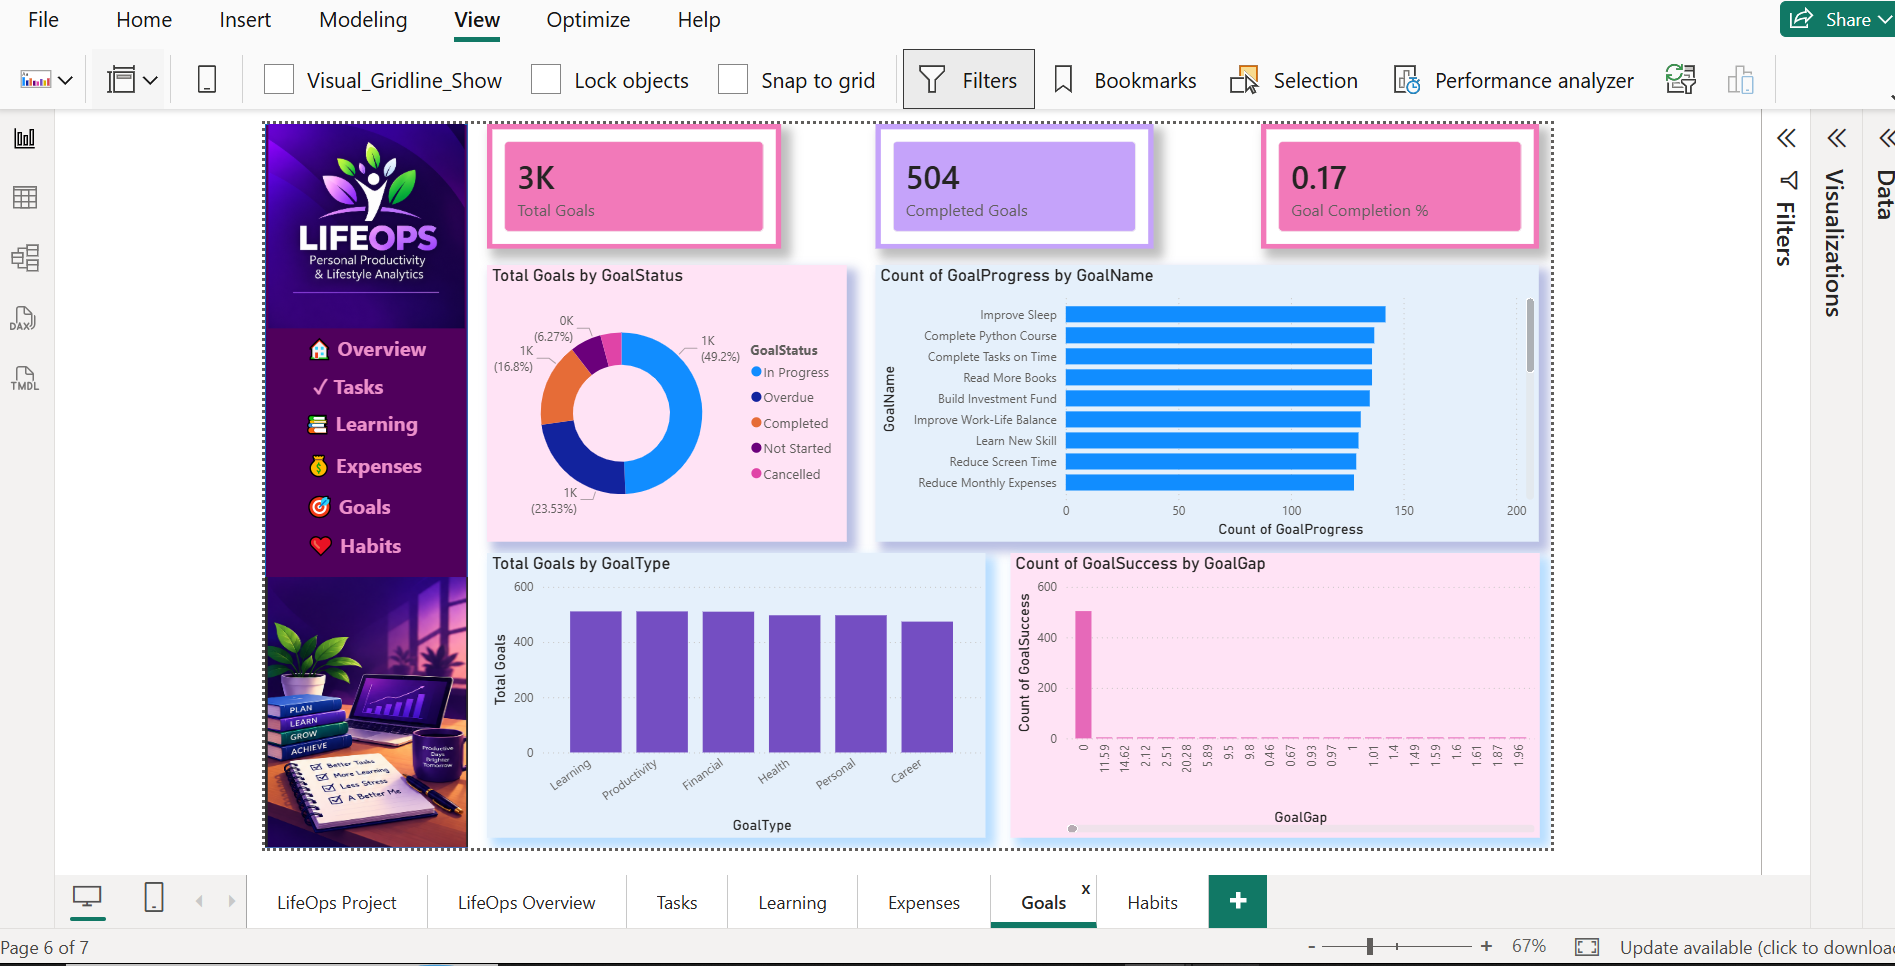

Layout of this report page (visuals, bound fields, positions):
{"tool":"powerbi","page":{"name":"Goals ","canvas":[1280,720],"ordinal":5},"visuals":[{"type":"shape","box":[0,0,201.7,720],"z":0},{"type":"actionButton","box":[19.1,203.6,163.8,39.8],"z":1000},{"type":"actionButton","box":[0,240.2,165.4,39.8],"z":2000},{"type":"actionButton","box":[30.2,278.4,132,39.8],"z":3000},{"type":"actionButton","box":[31.8,319.7,135.2,39.8],"z":4000},{"type":"actionButton","box":[0,359.5,165.4,39.8],"z":5000},{"type":"actionButton","box":[31.8,399.2,114.5,39.8],"z":6000},{"type":"cardVisual","fields":{"Data":["Goals.Total Goals"]},"box":[221.1,0,292.7,124.1],"z":7000},{"type":"cardVisual","fields":{"Data":["Goals.Goal Completion %"]},"box":[991,0,276.8,124.1],"z":8000},{"type":"cardVisual","fields":{"Data":["Goals.Completed Goals"]},"box":[607.6,0,276.8,124.1],"z":9000},{"type":"donutChart","fields":{"Category":["Goals.GoalStatus"],"Y":["Goals.Total Goals"]},"box":[221.1,140,357.9,275.2],"z":10000},{"type":"clusteredBarChart","fields":{"Category":["Goals.GoalName"],"Y":["CountNonNull(Goals.GoalProgress)"]},"box":[607.6,140,660.1,275.2],"z":11000},{"type":"clusteredColumnChart","fields":{"Category":["Goals.GoalType"],"Y":["Goals.Total Goals"]},"box":[221.1,426.3,496.3,283.1],"z":12000},{"type":"columnChart","fields":{"Category":["Goals.GoalGap"],"Y":["CountNonNull(Goals.GoalSuccess)"]},"box":[741.2,426.3,526.5,283.1],"z":13000},{"type":"image","box":[0,451.2,202,268.8],"z":13001},{"type":"image","box":[0,0,202,203.6],"z":13002}]}

Visuals, with their boxes on the page's 1280x720 design canvas (x1, y1, x2, y2). These are canvas units, not pixel positions in the 1895x966 screenshot, which may show the page scaled, cropped or inside an application window:
shape: [x1=0, y1=0, x2=202, y2=720]
actionButton: [x1=19, y1=204, x2=183, y2=243]
actionButton: [x1=0, y1=240, x2=165, y2=280]
actionButton: [x1=30, y1=278, x2=162, y2=318]
actionButton: [x1=32, y1=320, x2=167, y2=360]
actionButton: [x1=0, y1=360, x2=165, y2=399]
actionButton: [x1=32, y1=399, x2=146, y2=439]
cardVisual - Goals.Total Goals: [x1=221, y1=0, x2=514, y2=124]
cardVisual - Goals.Goal Completion %: [x1=991, y1=0, x2=1268, y2=124]
cardVisual - Goals.Completed Goals: [x1=608, y1=0, x2=884, y2=124]
donutChart - Goals.GoalStatus x Goals.Total Goals: [x1=221, y1=140, x2=579, y2=415]
clusteredBarChart - Goals.GoalName x CountNonNull(Goals.GoalProgress): [x1=608, y1=140, x2=1268, y2=415]
clusteredColumnChart - Goals.GoalType x Goals.Total Goals: [x1=221, y1=426, x2=717, y2=709]
columnChart - Goals.GoalGap x CountNonNull(Goals.GoalSuccess): [x1=741, y1=426, x2=1268, y2=709]
image: [x1=0, y1=451, x2=202, y2=720]
image: [x1=0, y1=0, x2=202, y2=204]
